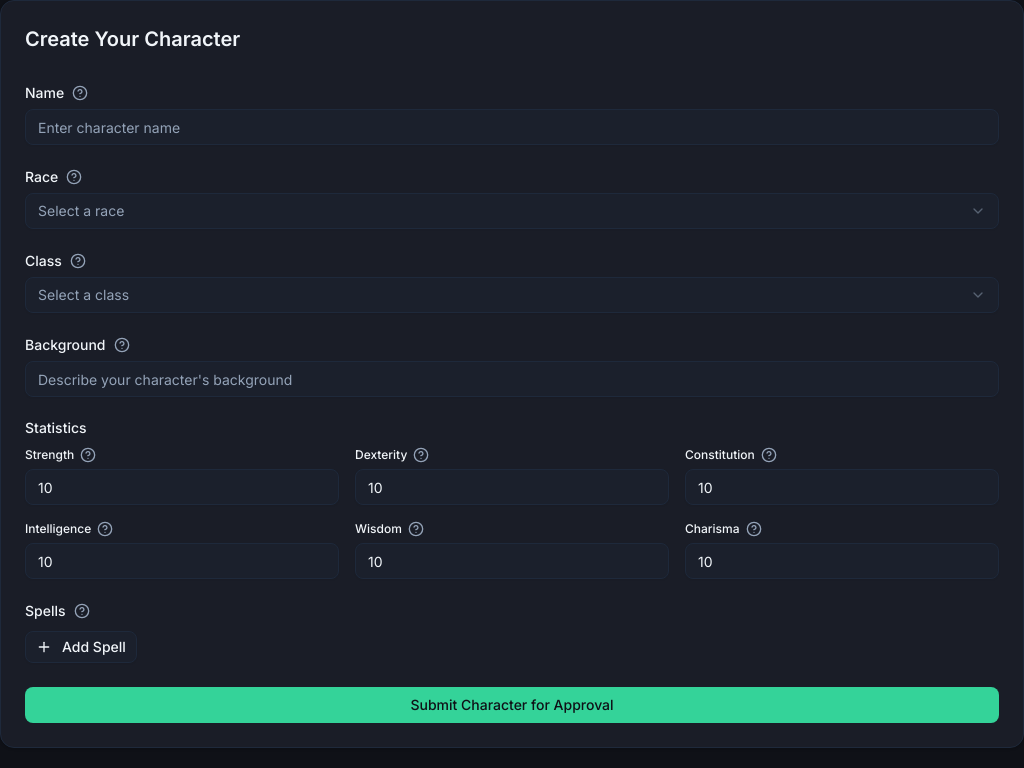
it: CharacterForm › should add a spell field when clicking Add Spell
The width and height of the screenshot is (1024, 768).
Click the button "Add Spell": (81,647) [25,631,137,663]
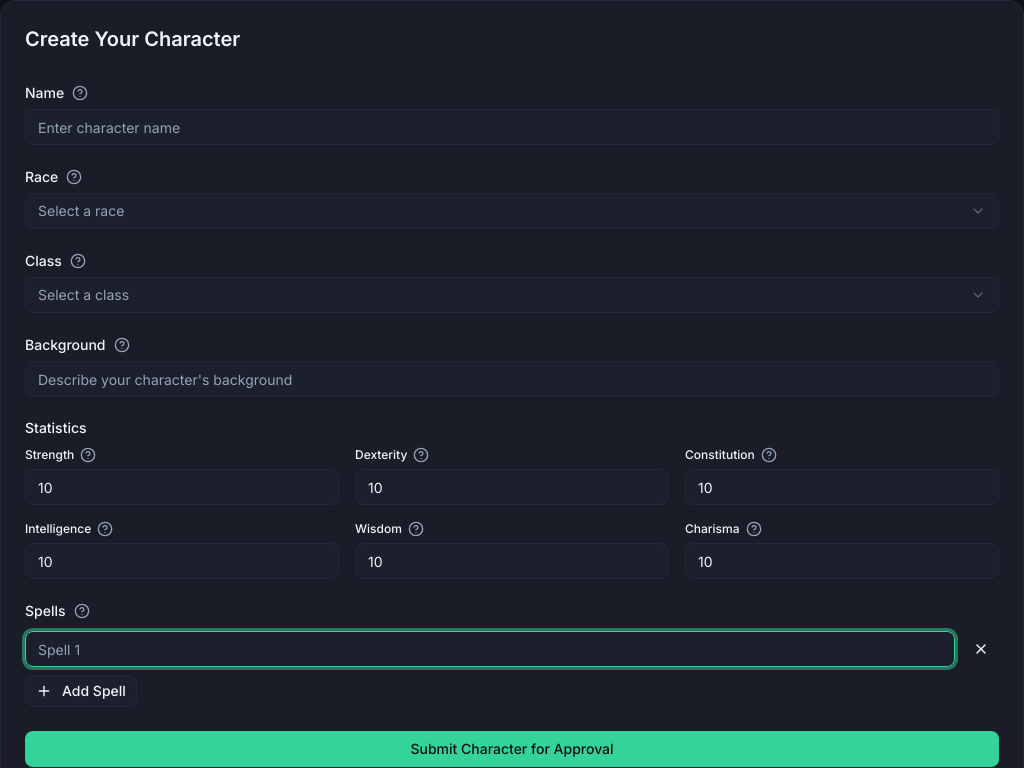
Now the field with placeholder "Spell 1" is shown, box [25,631,955,667]
